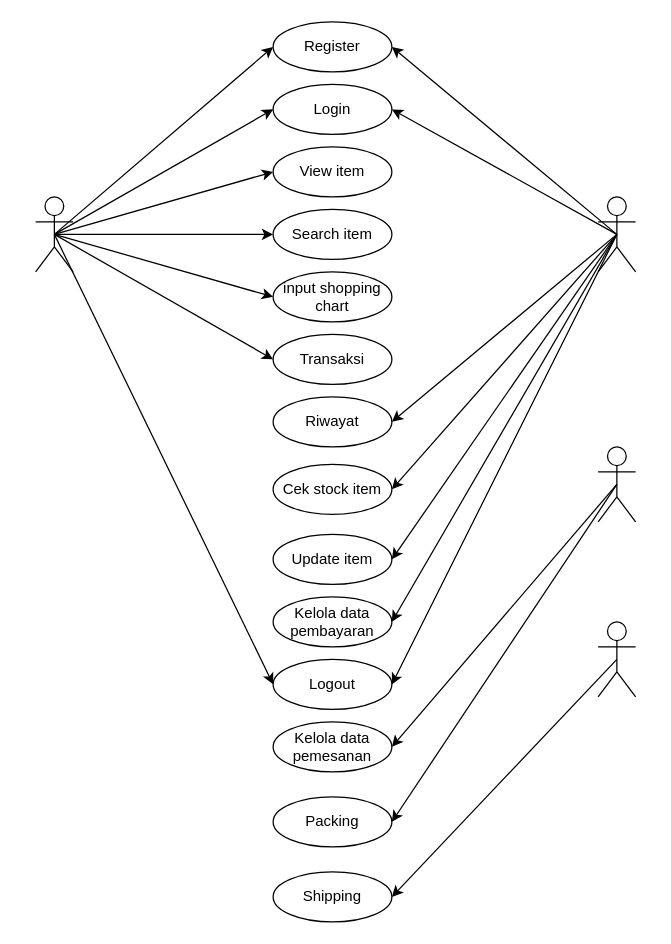
Some shapes in this 671 by 944 pixel diagram are drawn without their labels. Here are the shapes that lost their labels. From the top down, the centre of each, then its label:
At (53,234): "Customer".
At (616,234): "Admin".
At (616,484): "Karyawan".
At (616,659): "Kurir".
